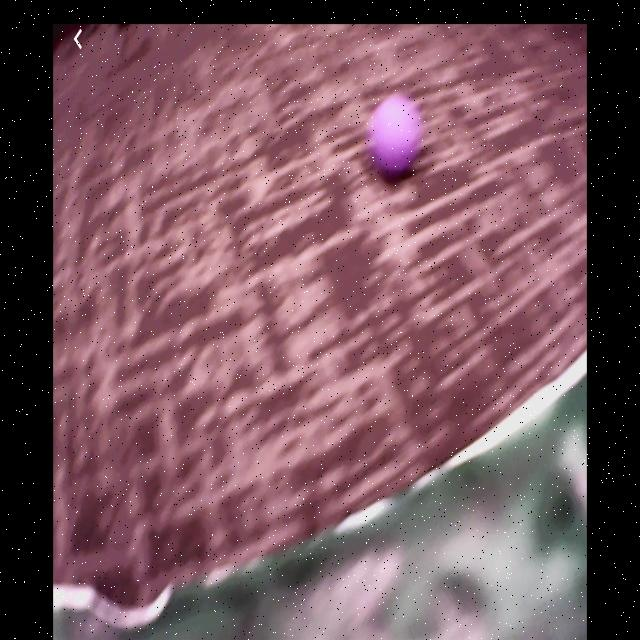ball: (373, 95, 419, 173)
